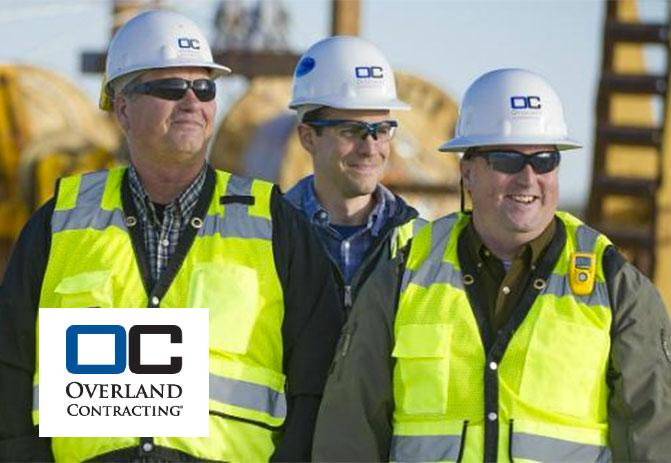helmet: (442, 67, 580, 158), (100, 9, 229, 97), (290, 36, 412, 118)
